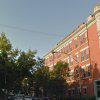Tree: (4, 31, 63, 92)
